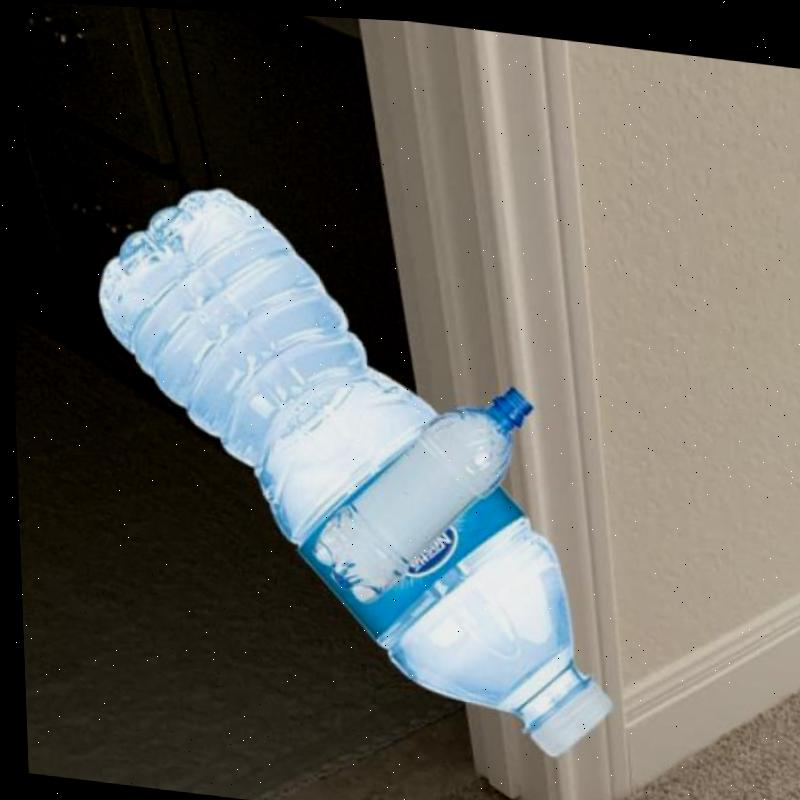botella: (65, 172, 641, 762), (300, 354, 539, 619)
